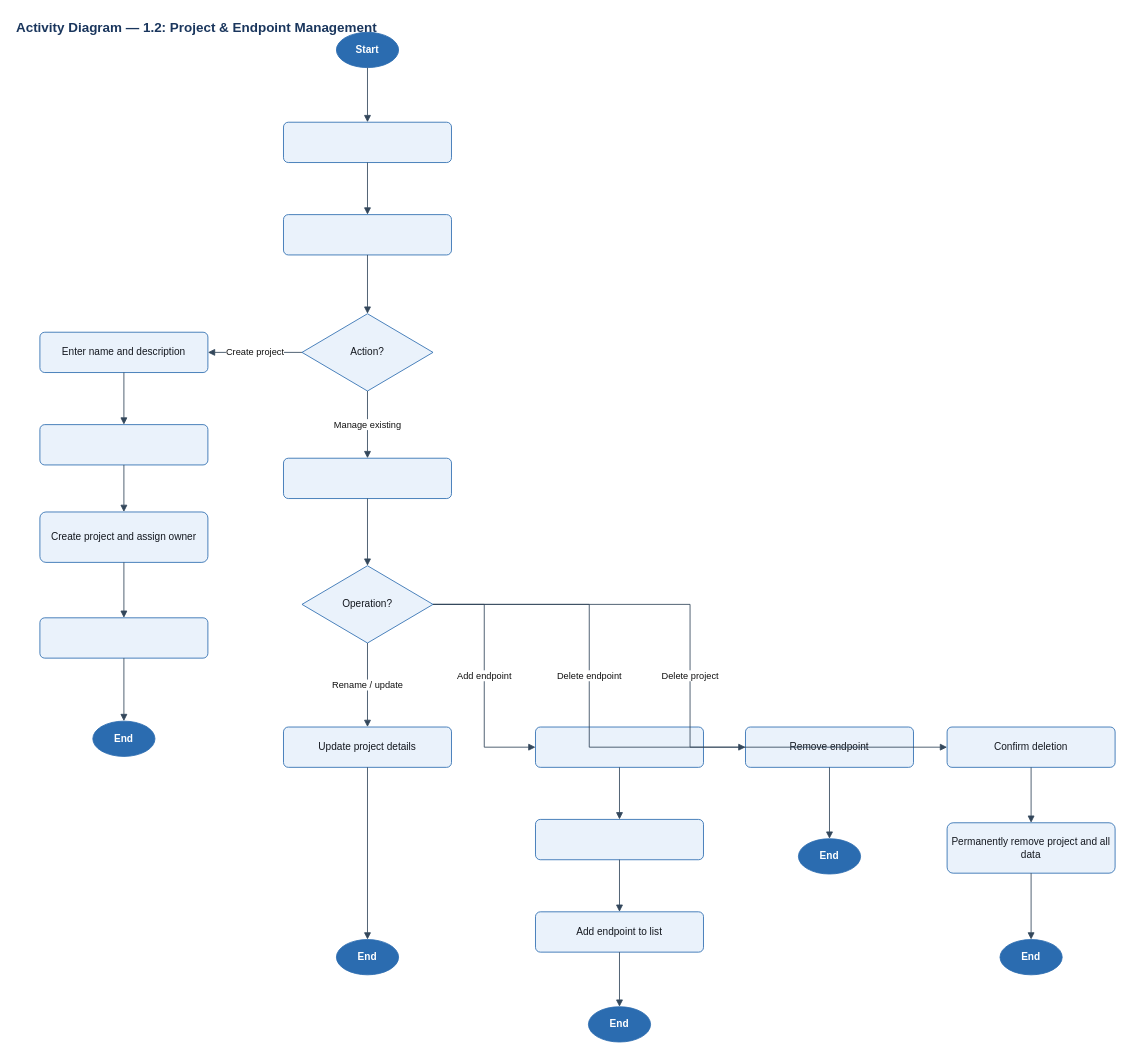
Some shapes in this 1130 by 1057 pixel diagram are drawn without their labels. Each missing label, with the centre of its shape:
"Enter path and HTTP method" goes at [619,746].
"Open a project" goes at [367,478].
"Open dashboard" goes at [367,142].
"Open project workspace" goes at [123,637].
"Submit" goes at [123,444].
"Validate uniqueness" goes at [619,839].
"View projects list" goes at [367,234].
